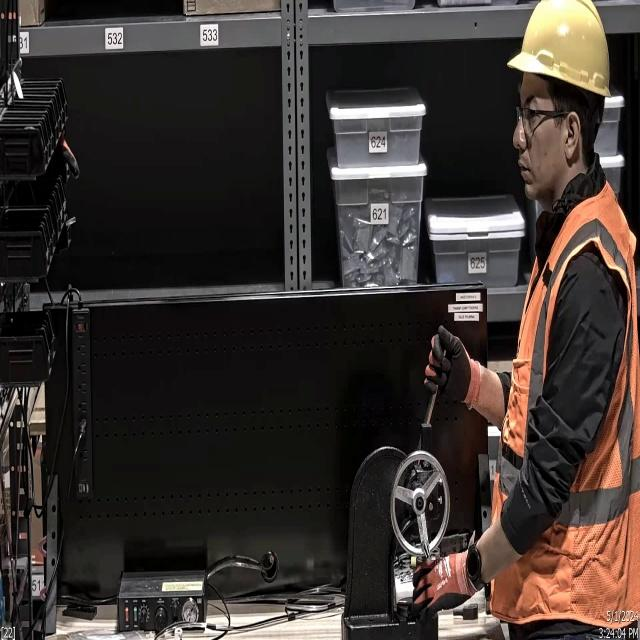construction-gloves: (415, 322, 485, 414), (402, 546, 476, 616)
